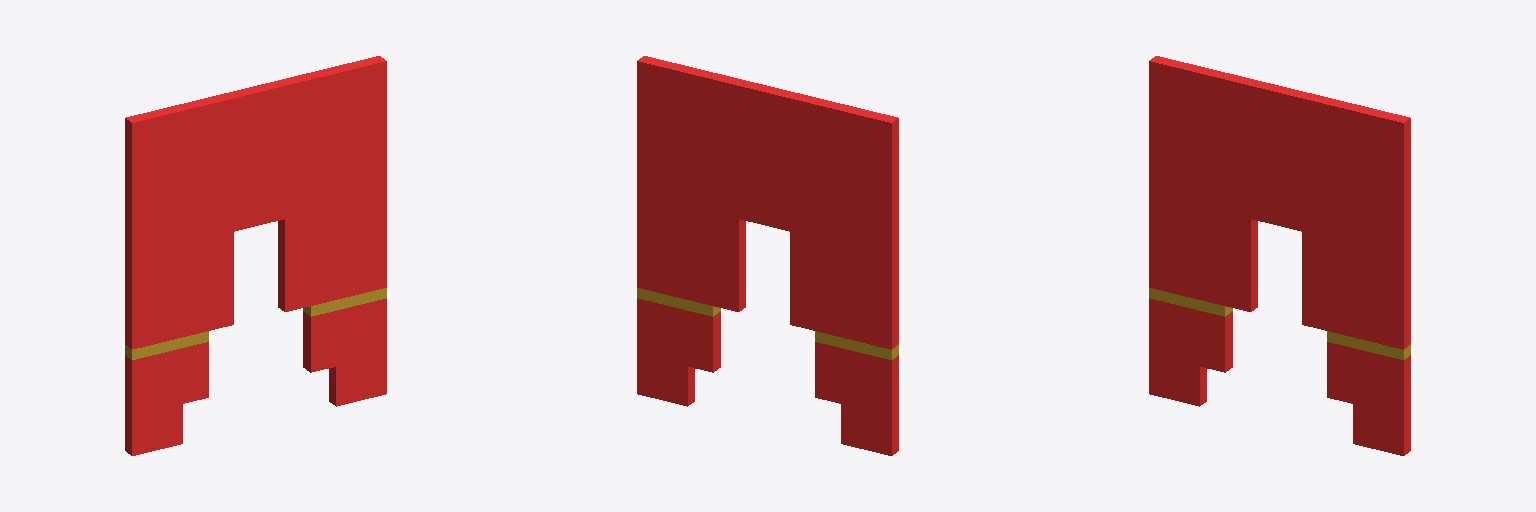
The model's file is Curtain.obj.
The picture shows the model from 3 angles: view 1: azimuth 30°, elevation 25°; view 2: azimuth 150°, elevation 25°; view 3: azimuth 330°, elevation 25°; orthographic projection.
Parts seen in each view (by area): view 1: mergedBlocks; view 2: mergedBlocks; view 3: mergedBlocks.
Boxes of the visible parts, box(x1,y1,x2,y2) form: mergedBlocks: box(125, 56, 386, 455); mergedBlocks: box(637, 56, 898, 455); mergedBlocks: box(1149, 56, 1410, 455).
Size of the model in its own units: 2 by 2.5 by 0.1.